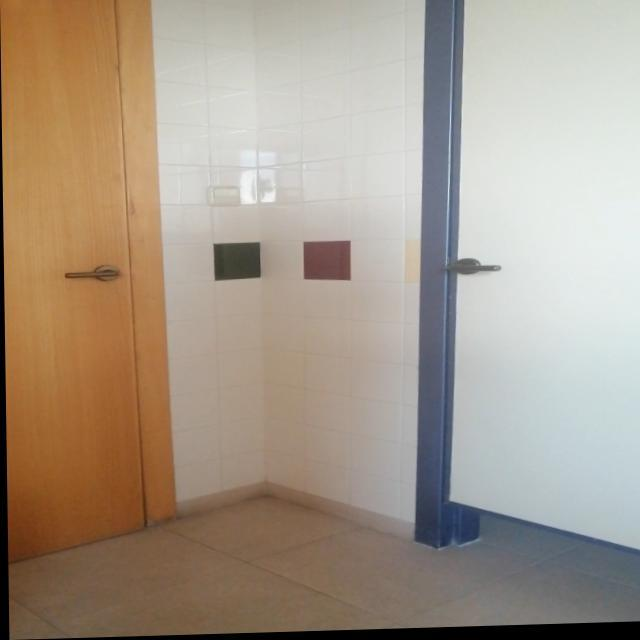door_handle: (443, 265, 504, 277), (60, 269, 120, 280)
